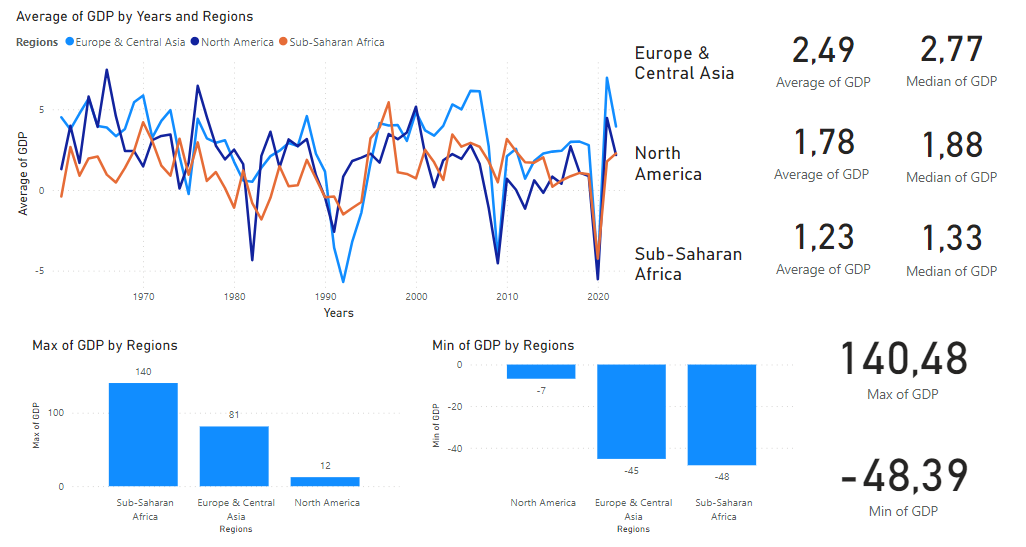

What the dashboard file says about the page in this screenshot:
{"tool":"powerbi","page":{"name":"GDP per 3 regions","canvas":[1280,720],"ordinal":1},"visuals":[{"type":"lineChart","fields":{"Category":["GDP per capita growth (annual %).Years"],"Y":["Avg(GDP per capita growth (annual %).GDP)"],"Series":["each country metadata.Regions"]},"box":[26.5,39.7,729.4,372.1],"z":0},{"type":"card","fields":{"Values":["Max(GDP per capita growth (annual %).GDP)"]},"box":[966.2,392.6,217.6,125],"z":1000},{"type":"card","fields":{"Values":["Min(GDP per capita growth (annual %).GDP)"]},"box":[989.7,523.5,172.1,139.7],"z":2000},{"type":"clusteredColumnChart","fields":{"Y":["Max(GDP per capita growth (annual %).GDP)"],"Category":["each country metadata.Regions"]},"box":[45.2,427.1,442.9,237.1],"z":3000},{"type":"clusteredColumnChart","fields":{"Category":["each country metadata.Regions"],"Y":["Min(GDP per capita growth (annual %).GDP)"]},"box":[516.7,427.1,438.6,237.1],"z":4000},{"type":"card","fields":{"Values":["Avg(GDP per capita growth (annual %).GDP)"]},"box":[902.9,39.7,157.4,111.8],"z":5000},{"type":"card","fields":{"Values":["Avg(GDP per capita growth (annual %).GDP)"]},"box":[897.1,150,169.1,105.9],"z":6000},{"type":"card","fields":{"Values":["Avg(GDP per capita growth (annual %).GDP)"]},"box":[910.3,257.4,142.6,114.7],"z":7000},{"type":"card","fields":{"Values":["Median(GDP per capita growth (annual %).GDP)"]},"box":[1045.6,19.1,173.5,150],"z":8000},{"type":"card","fields":{"Values":["Median(GDP per capita growth (annual %).GDP)"]},"box":[1045.6,132.4,173.5,150],"z":9000},{"type":"card","fields":{"Values":["Median(GDP per capita growth (annual %).GDP)"]},"box":[1045.6,261.8,173.5,110.3],"z":10000},{"type":"textbox","box":[754.4,39.7,148.5,372.1],"z":11000}]}

Visuals, with their boxes on the page's 1280x720 design canvas (x1, y1, x2, y2). These are canvas units, not pixel positions in the 1026x547 screenshot, which may show the page scaled, cropped or inside an application window:
lineChart - GDP per capita growth (annual %).Years x Avg(GDP per capita growth (annual %).GDP): box(26, 40, 756, 412)
card - Max(GDP per capita growth (annual %).GDP): box(966, 393, 1184, 518)
card - Min(GDP per capita growth (annual %).GDP): box(990, 524, 1162, 663)
clusteredColumnChart - Max(GDP per capita growth (annual %).GDP) x each country metadata.Regions: box(45, 427, 488, 664)
clusteredColumnChart - each country metadata.Regions x Min(GDP per capita growth (annual %).GDP): box(517, 427, 955, 664)
card - Avg(GDP per capita growth (annual %).GDP): box(903, 40, 1060, 152)
card - Avg(GDP per capita growth (annual %).GDP): box(897, 150, 1066, 256)
card - Avg(GDP per capita growth (annual %).GDP): box(910, 257, 1053, 372)
card - Median(GDP per capita growth (annual %).GDP): box(1046, 19, 1219, 169)
card - Median(GDP per capita growth (annual %).GDP): box(1046, 132, 1219, 282)
card - Median(GDP per capita growth (annual %).GDP): box(1046, 262, 1219, 372)
textbox: box(754, 40, 903, 412)
